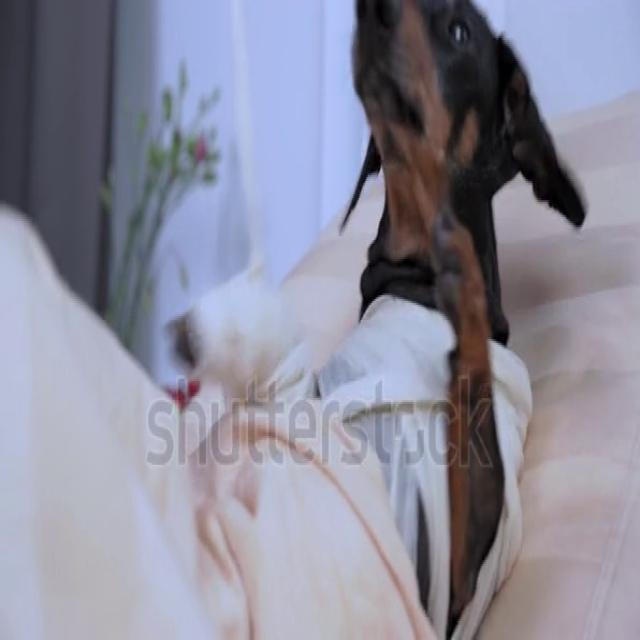injured-animals: (161, 31, 620, 640)
